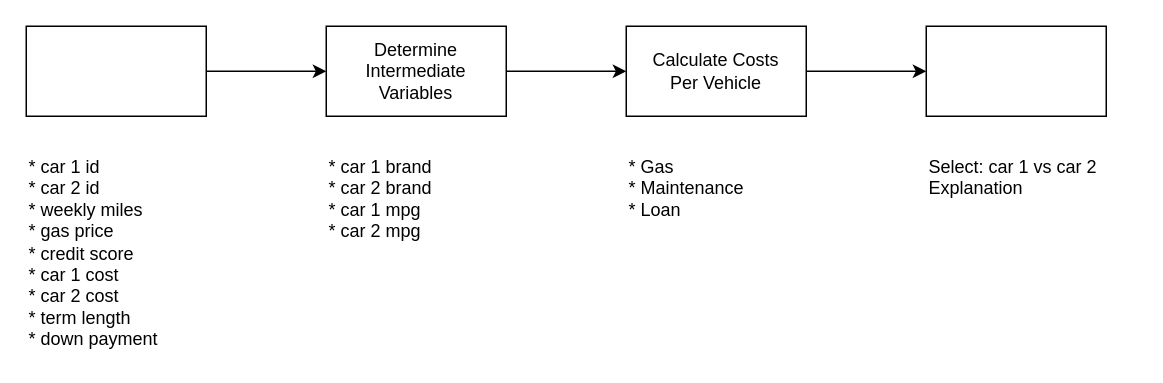
This 1163x383 diagram has some shape labels left out. Each missing label, with the centre of its shape:
Recommendation: the point at 1015,70
User Input: the point at 115,70
